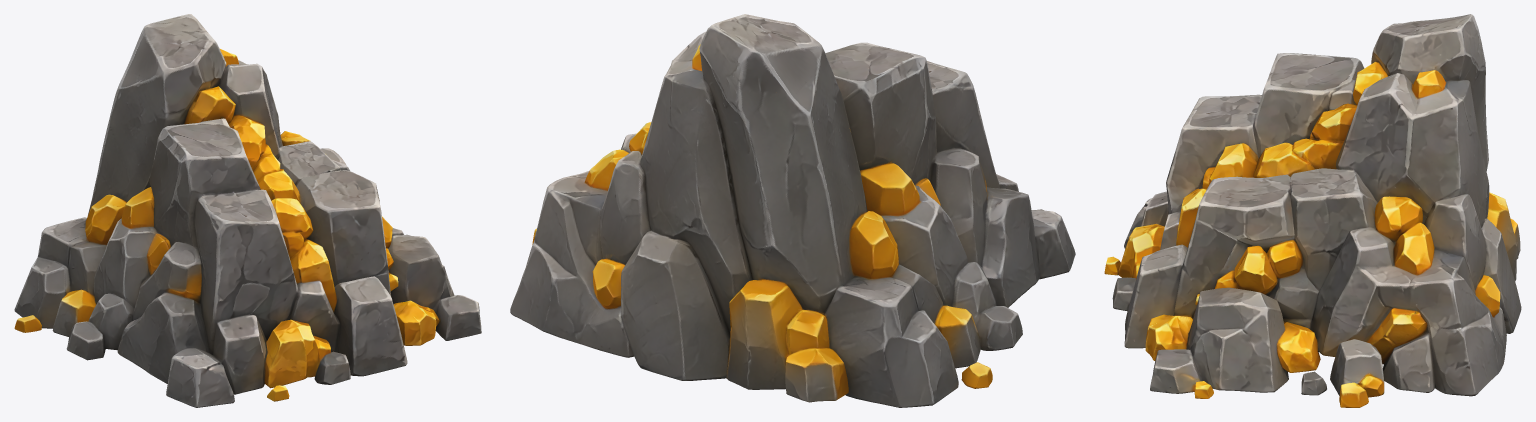
The model's file is base_basic_shaded.glb.
3 renders of one model, left to right at view 1: azimuth 30°, elevation 25°; view 2: azimuth 150°, elevation 25°; view 3: azimuth 270°, elevation 25°, orthographic. The views are drawn at different scales.
Parts seen in each view (by area): view 1: model; view 2: model; view 3: model.
Boxes of the visible parts, x1,y1,x2,y2 form: model: [14, 14, 481, 407]; model: [510, 14, 1075, 407]; model: [1104, 14, 1521, 407].
Bounding box in the file's own units: 1.9 × 1.24 × 1.62.
1 material, 1 textured.
